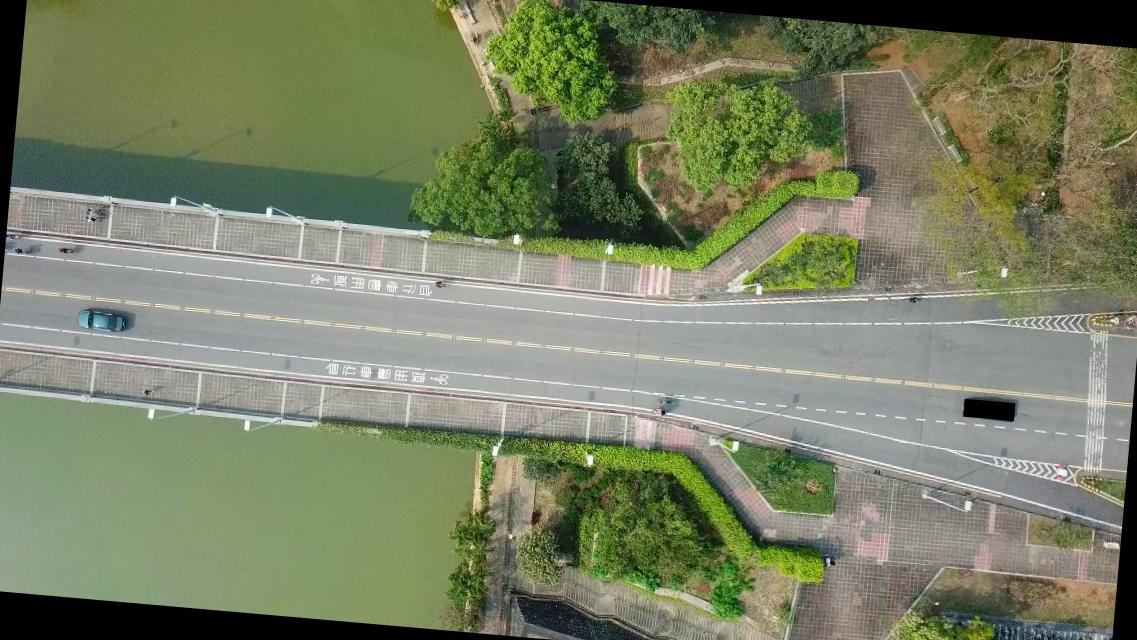vehicle: (76, 308, 125, 332)
